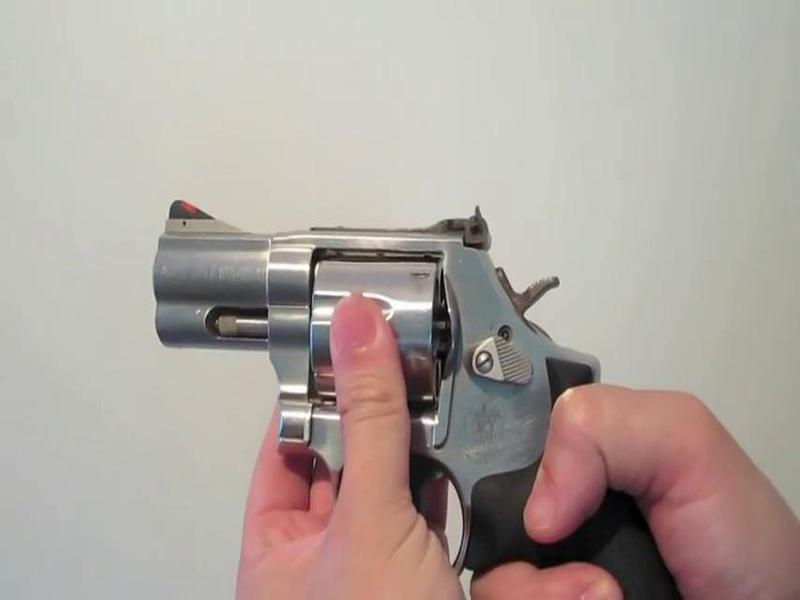Revolver: (128, 186, 668, 549)
